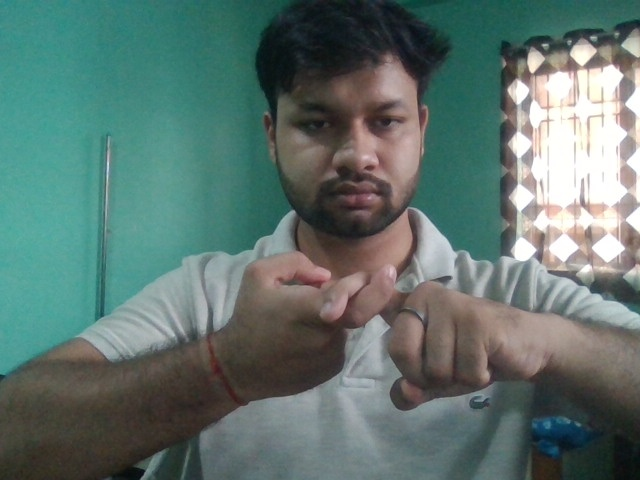Friend: (187, 249, 574, 418)
